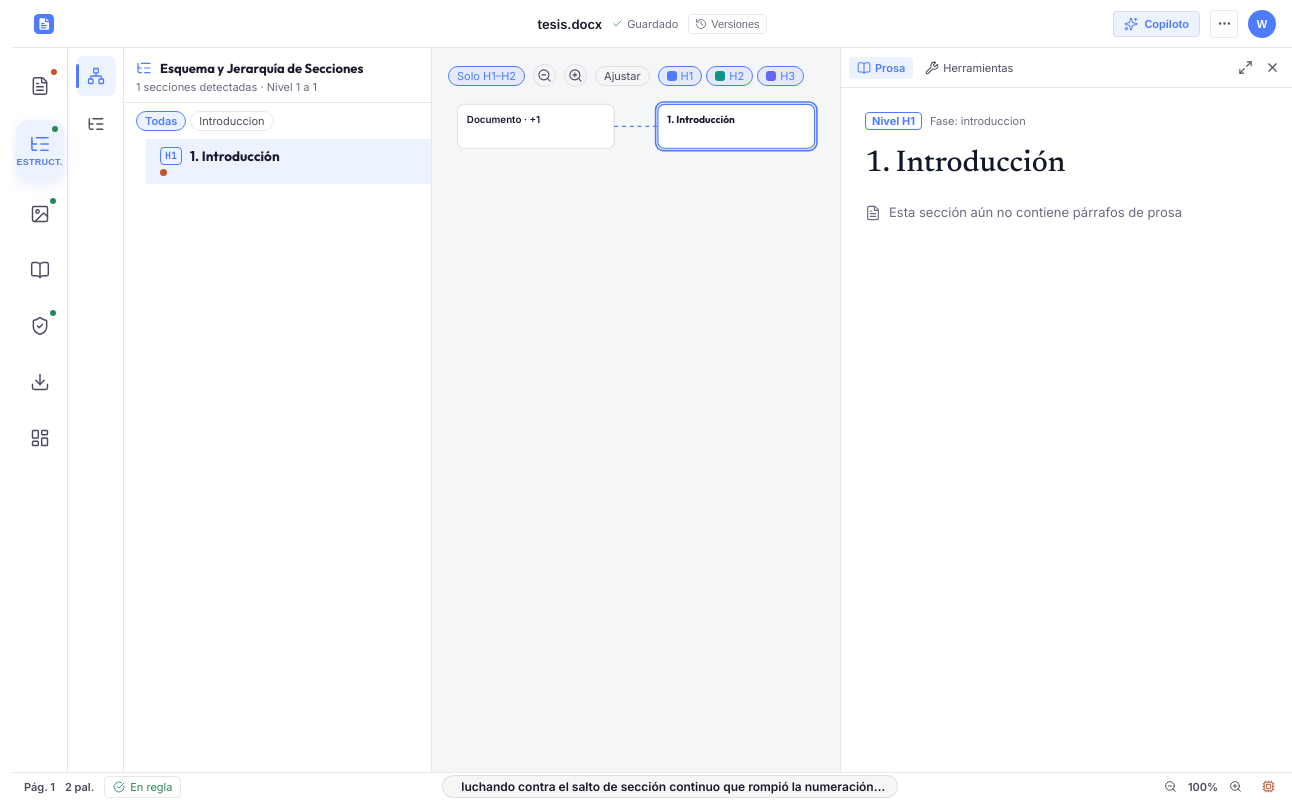
Test case: el modo foco deja la fase de Estructura con sus herramientas › con el foco prendido se puede leer la prosa y abrir las herramientas
Expected: the element with test id "prosa-seccion" is shown, top-left (841, 88), bottom-right (1291, 247)
Click the tab "Herramientas" at (969,68), box top-left (917, 56), bottom-right (1021, 78)
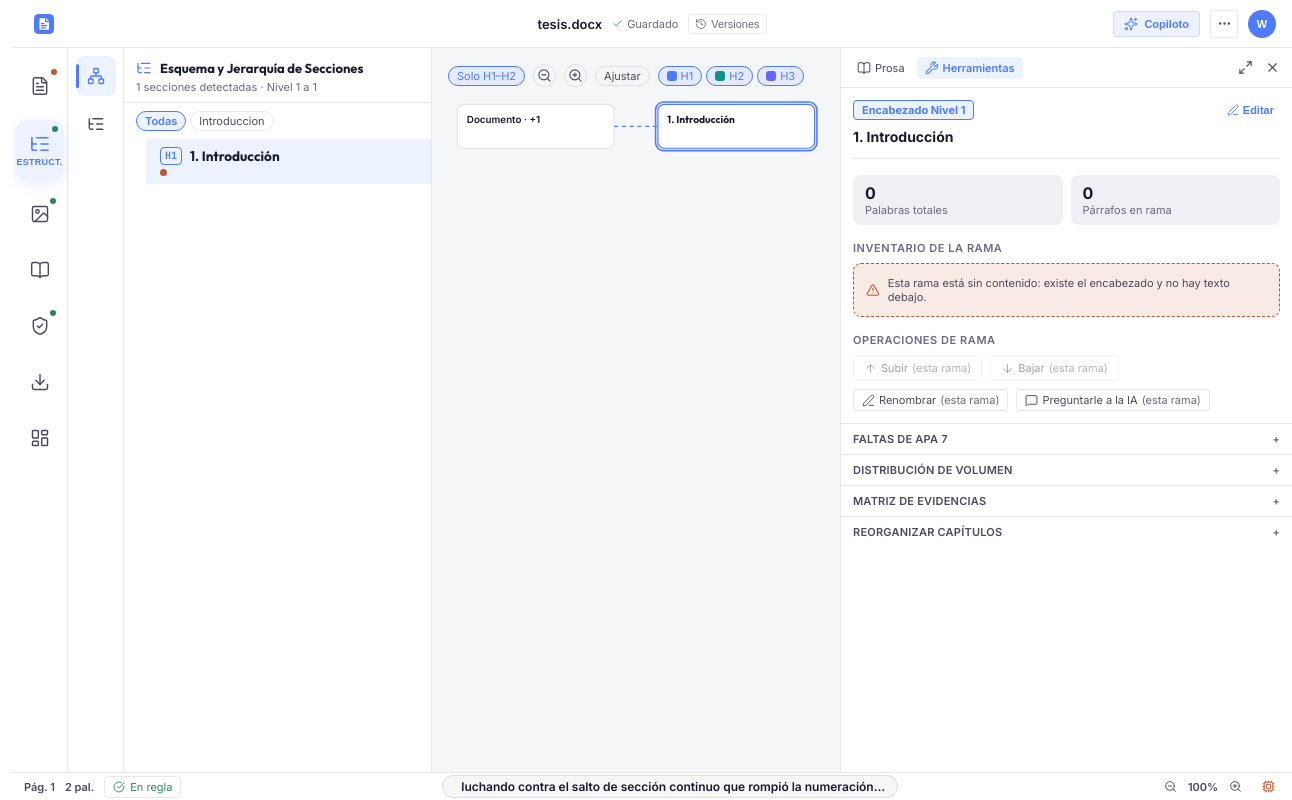
Now the element with test id "panel-herramientas" is shown, box top-left (841, 88), bottom-right (1291, 547)
Click the tab "Prosa" at (881,68), box top-left (849, 56), bottom-right (913, 78)
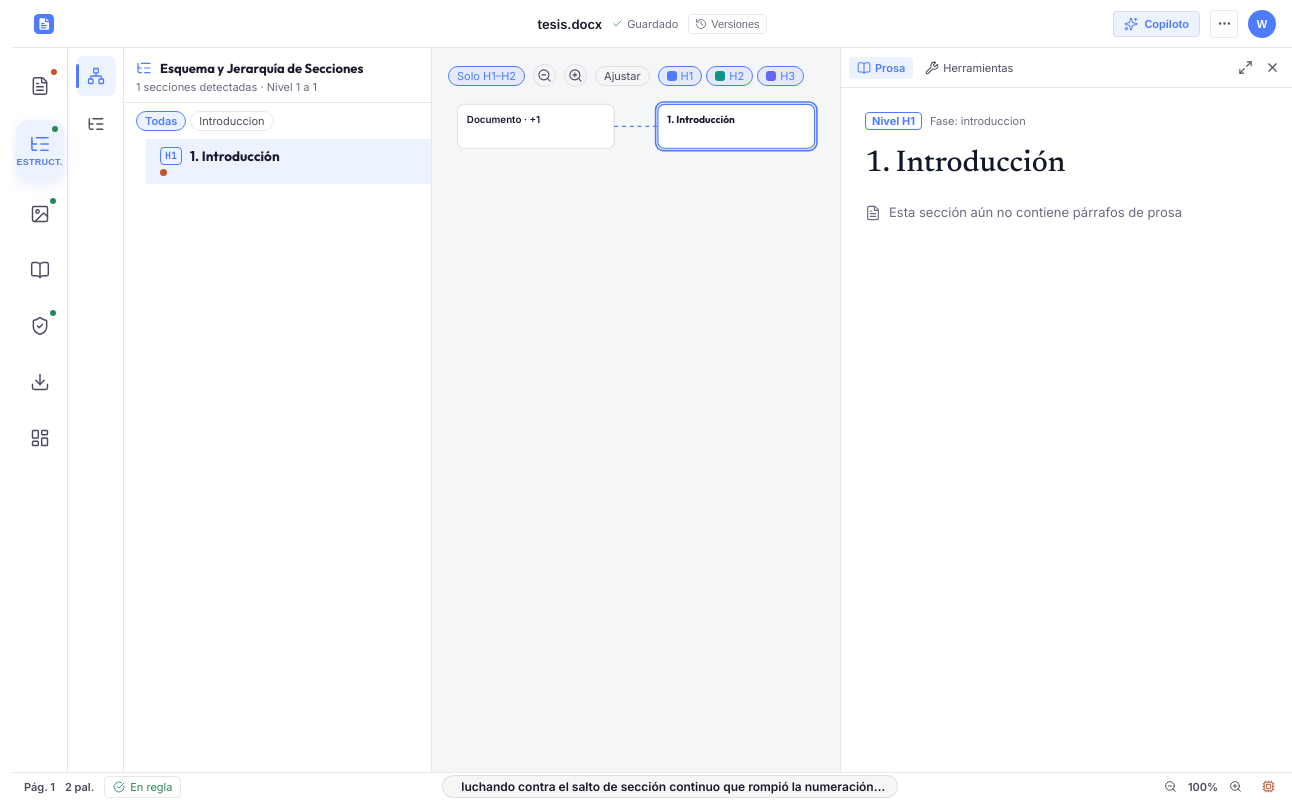
Now the element with test id "prosa-seccion" is shown, box top-left (841, 88), bottom-right (1291, 247)
